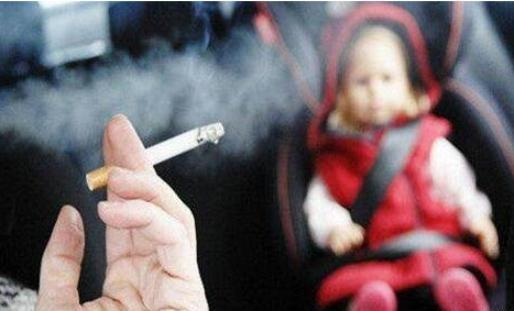smoke: (86, 122, 224, 192)
